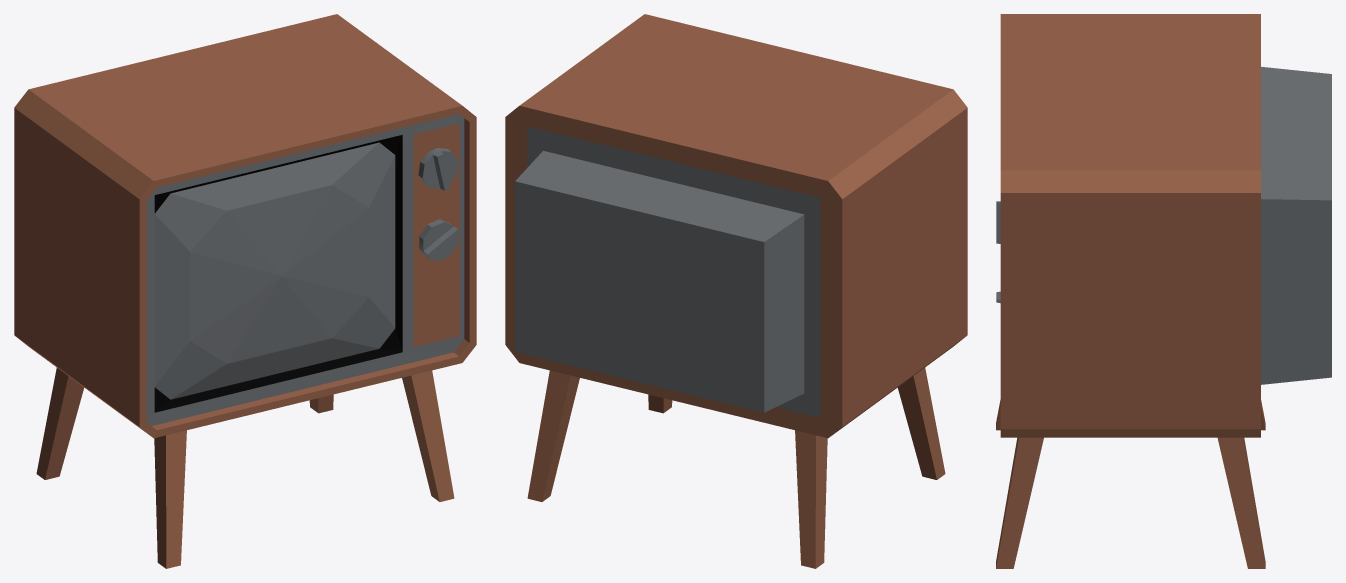
The model's file is LightWoodDecorationSmallOldTV1.fbx.
The picture shows the model from 3 angles, left to right: view 1: azimuth 30°, elevation 25°; view 2: azimuth 150°, elevation 25°; view 3: azimuth 270°, elevation 25°; orthographic projection. The views are drawn at different scales.
Parts seen in each view (by area): view 1: LightWoodDecorationSmallOldTV1; view 2: LightWoodDecorationSmallOldTV1; view 3: LightWoodDecorationSmallOldTV1.
Part boxes in pixels (<box>): LightWoodDecorationSmallOldTV1: <box>14,14,476,568</box>; LightWoodDecorationSmallOldTV1: <box>505,14,967,568</box>; LightWoodDecorationSmallOldTV1: <box>996,14,1331,568</box>.
Size of the model in its own units: 127 by 139 by 105.
